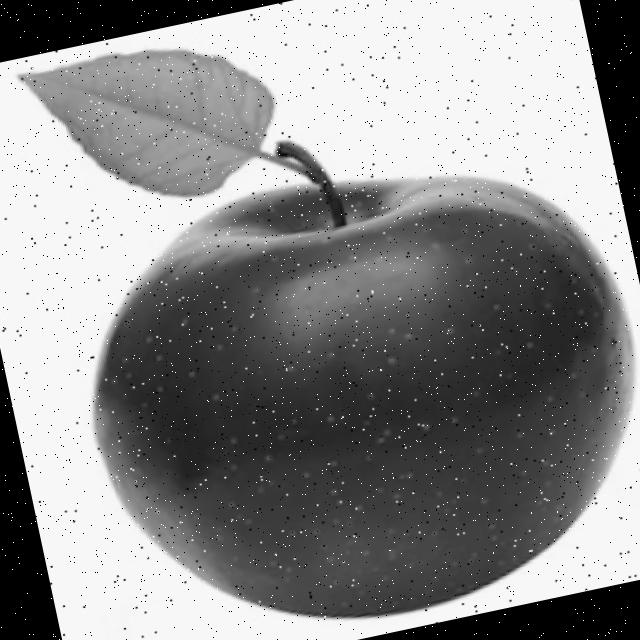Ripe: (43, 123, 640, 640)
